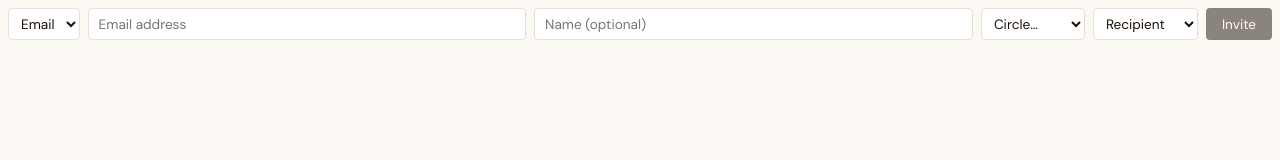
Scenario: InviteForm — notification channel default › switches to phone input when channel is changed to "sms"
Select "SMS" in the dropdown with class "channel-select". click: (44, 24)
box: x1=8 y1=8 x2=80 y2=40
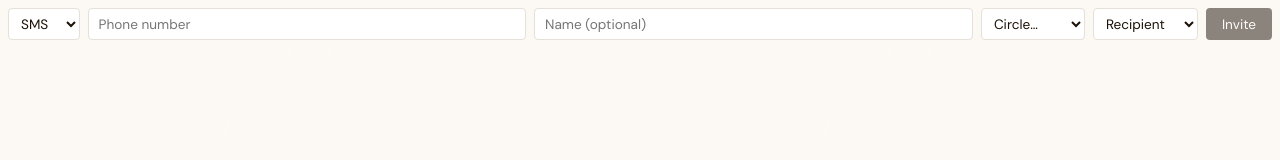
Check: the field with placeholder "Email address" is not shown
Check: the field with placeholder "Phone number" is shown, box x1=88 y1=8 x2=526 y2=40
